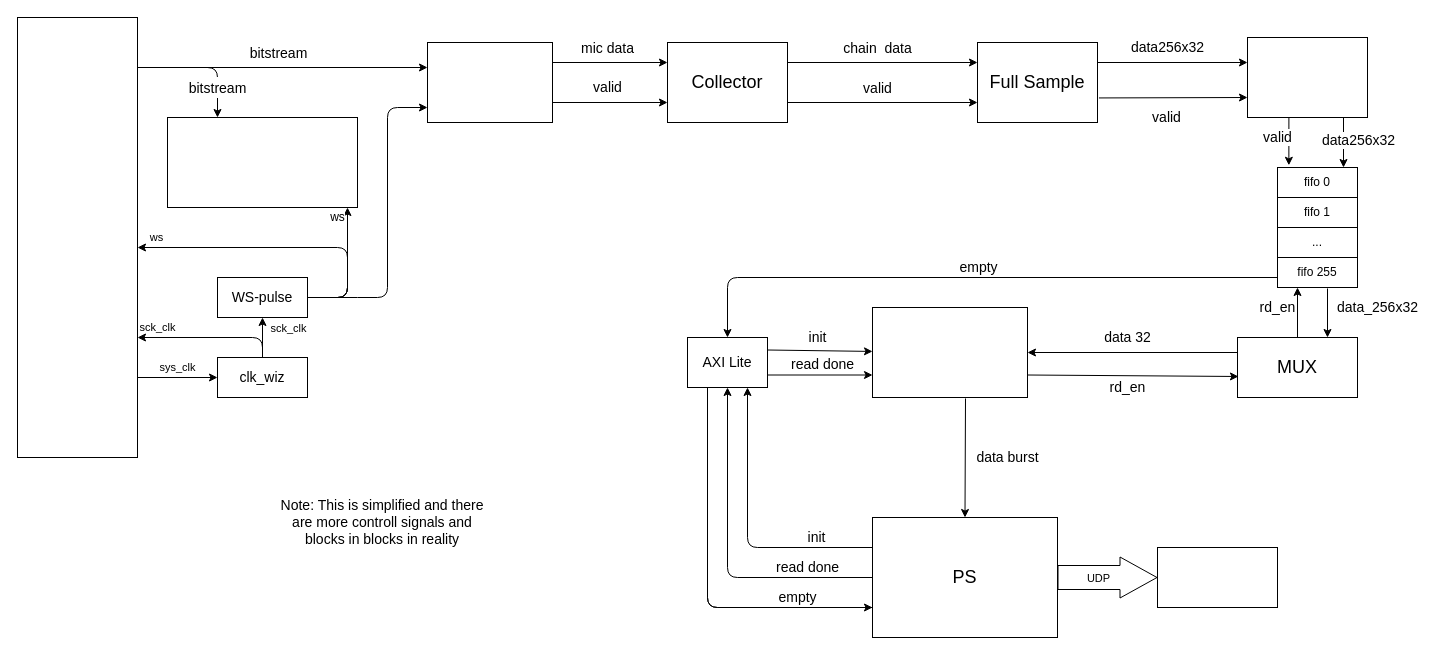
Image size: 1435x655. Some labels were removed from this diagram. The box of each missing label's shape, as (x1, y1, x2, y2) in pixels:
AXI Full: (872, 306, 1028, 398)
fir-filter controller: (1246, 36, 1368, 118)
Inputs/Outputs from FPGA: (16, 16, 138, 458)
PC: (1156, 546, 1278, 608)
Sample: (426, 42, 552, 122)
Simulated_Array (on fpga for testing): (166, 116, 358, 208)
